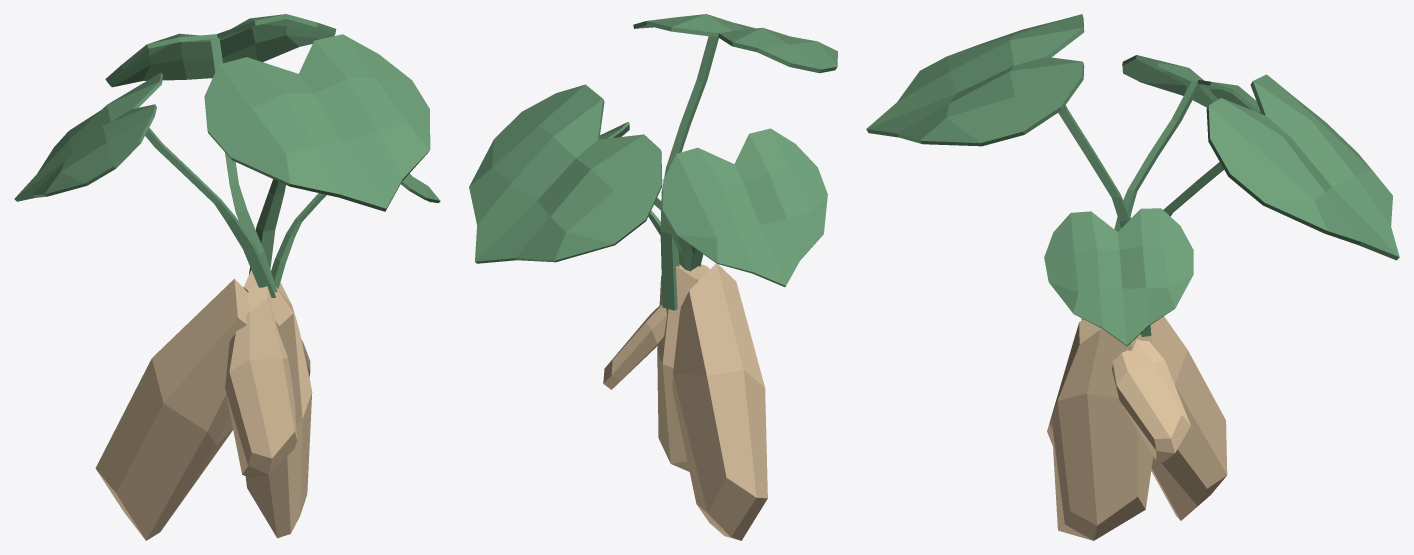
Rendered from Yam.fbx.
3 renders of one model, left to right at view 1: azimuth 30°, elevation 25°; view 2: azimuth 150°, elevation 25°; view 3: azimuth 270°, elevation 25°, orthographic. The views are drawn at different scales.
Visible parts, largest first — view 1: leave1, Yam2, Yam3, leave3, leave4, Yam, leave2; view 2: leave4, Yam2, leave3, leave1, Yam, Yam1; view 3: leave4, leave1, Yam, leave2, Yam2, Yam1, leave3.
Part boxes in pixels (x1=…): leave1: x1=204, y1=34, x2=430, y2=274; Yam2: x1=95, y1=279, x2=247, y2=540; Yam3: x1=225, y1=285, x2=297, y2=477; leave3: x1=14, y1=72, x2=275, y2=297; leave4: x1=105, y1=14, x2=336, y2=292; Yam: x1=243, y1=270, x2=312, y2=538; leave2: x1=271, y1=173, x2=440, y2=288; leave4: x1=469, y1=84, x2=693, y2=271; Yam2: x1=672, y1=263, x2=767, y2=540; leave3: x1=662, y1=128, x2=827, y2=286; leave1: x1=633, y1=14, x2=837, y2=310; Yam: x1=657, y1=264, x2=697, y2=471; Yam1: x1=603, y1=304, x2=667, y2=389; leave4: x1=1163, y1=74, x2=1399, y2=260; leave1: x1=866, y1=14, x2=1151, y2=336; Yam: x1=1051, y1=319, x2=1153, y2=540; leave2: x1=1044, y1=208, x2=1193, y2=346; Yam2: x1=1150, y1=316, x2=1227, y2=520; Yam1: x1=1112, y1=339, x2=1190, y2=462; leave3: x1=1114, y1=55, x2=1261, y2=231.
Size of the model in its own units: 421 by 566 by 531.
